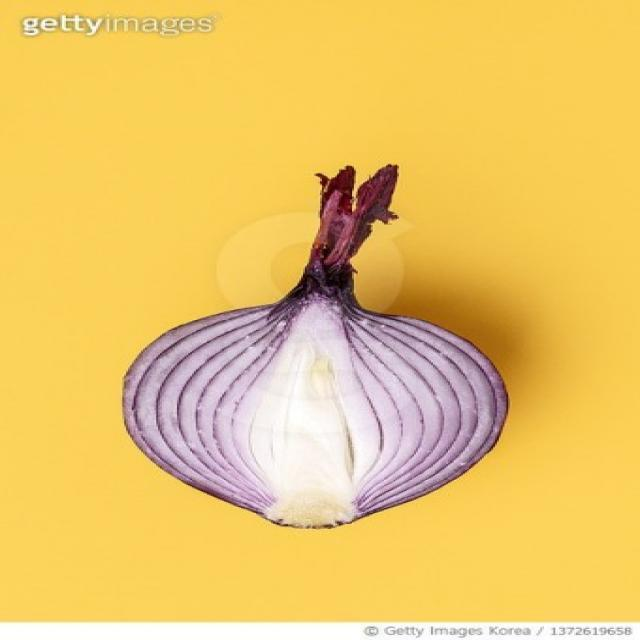Onion: (122, 166, 510, 528)
